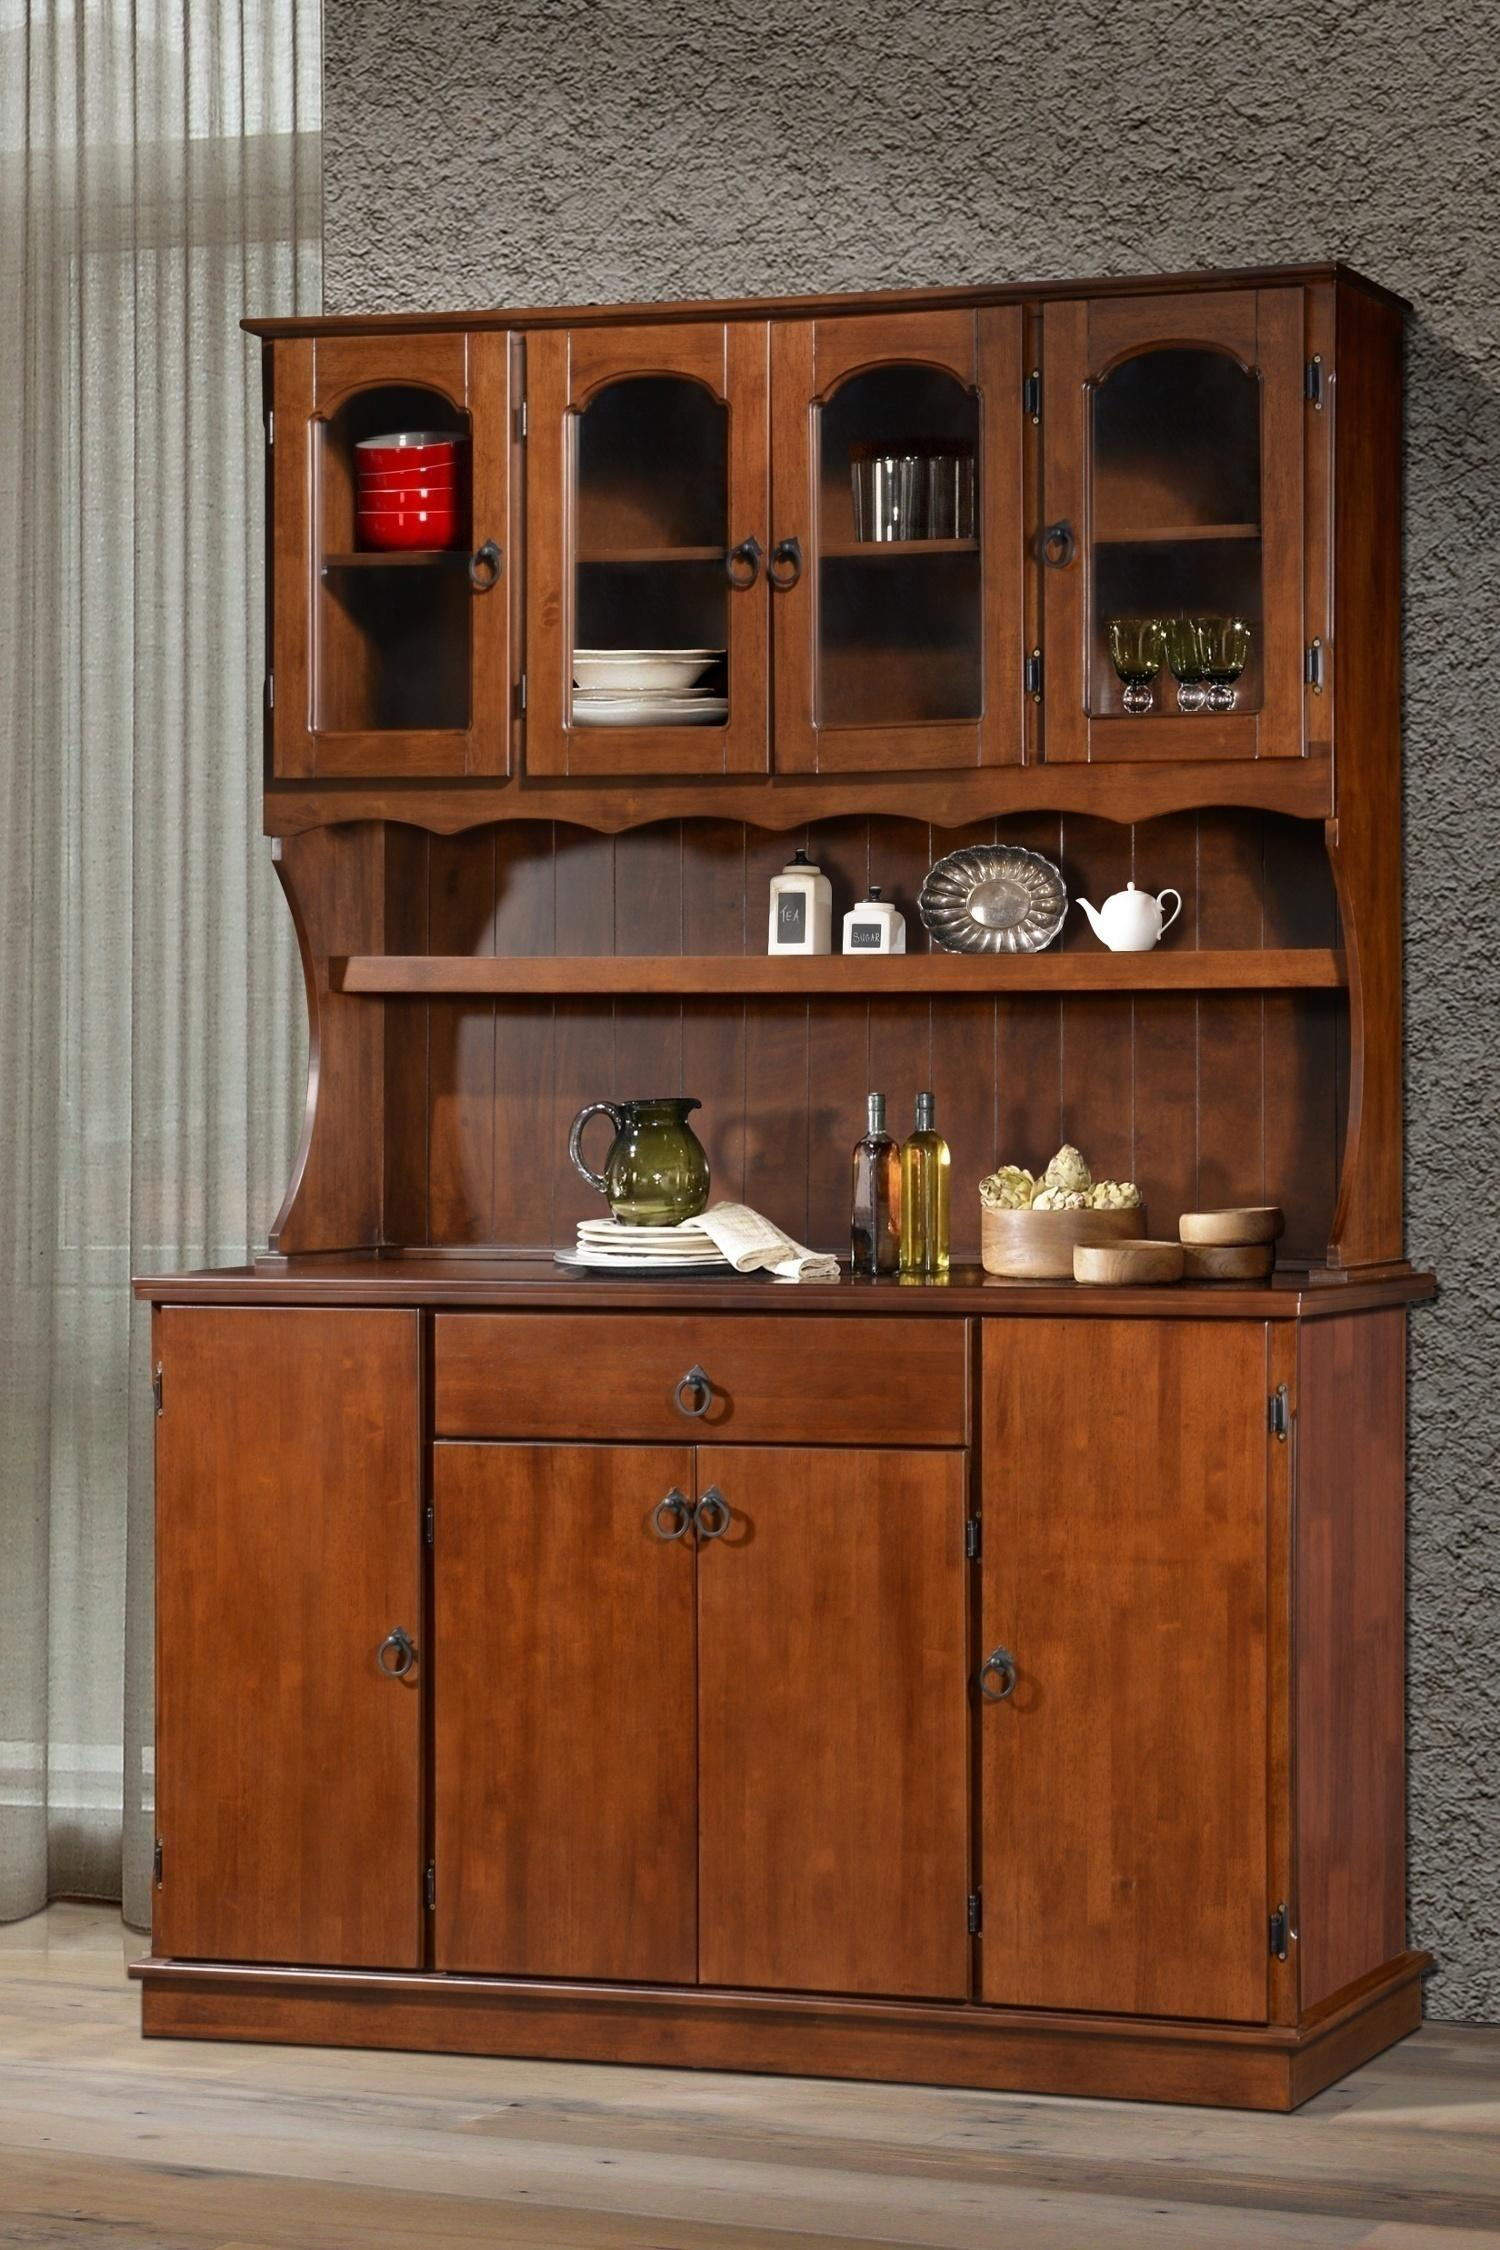cabinet_door: (976, 1312, 1269, 1989), (162, 1304, 420, 1945), (701, 1451, 963, 1975), (435, 1450, 688, 1972), (1035, 308, 1291, 755), (767, 323, 1018, 757), (531, 342, 775, 773), (278, 352, 507, 772), (444, 1307, 966, 1438)
handle: (646, 1475, 691, 1562), (372, 1612, 417, 1699), (1036, 514, 1086, 586), (670, 1364, 727, 1426), (701, 1477, 735, 1560), (728, 537, 767, 603), (984, 1637, 1016, 1711), (472, 539, 504, 604), (777, 536, 807, 604)
